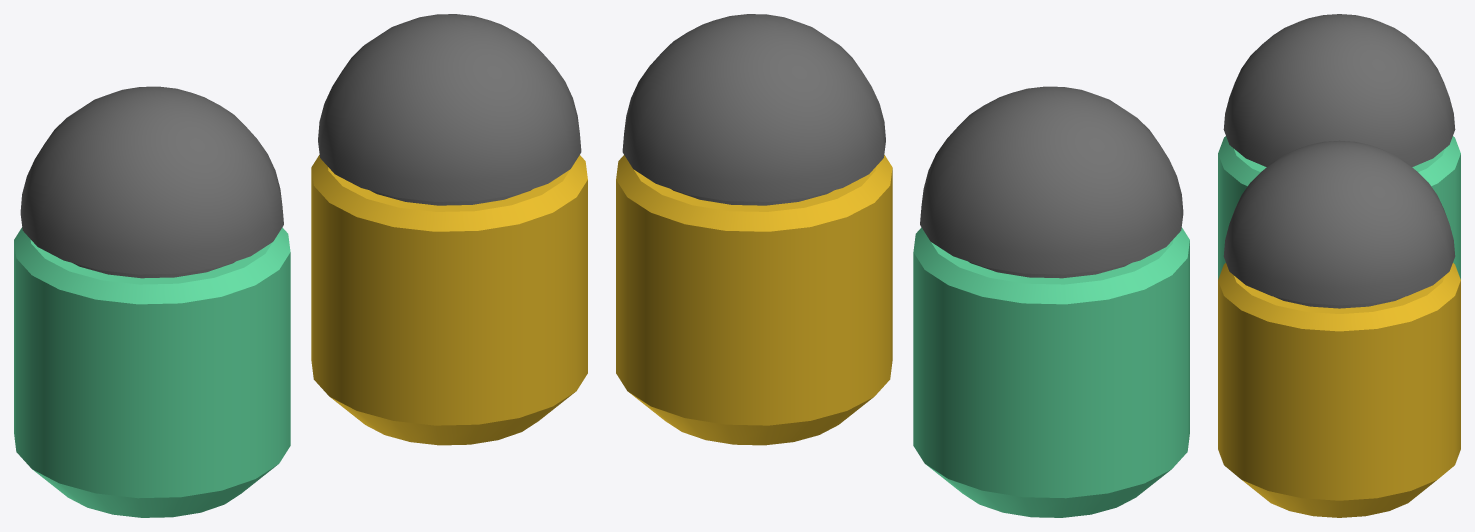
Rendered from salt_pepper_model.fbx.
The picture shows the model from 3 angles, left to right: view 1: azimuth 30°, elevation 25°; view 2: azimuth 150°, elevation 25°; view 3: azimuth 270°, elevation 25°; orthographic projection. The views are drawn at different scales.
Visible parts, largest first — view 1: salt_pepper_geo; view 2: salt_pepper_geo; view 3: salt_pepper_geo.
Boxes of the visible parts, box(x1,y1,x2,y2) form: salt_pepper_geo: box(14, 14, 587, 517); salt_pepper_geo: box(616, 14, 1189, 517); salt_pepper_geo: box(1218, 14, 1460, 517).
Bounding box in the file's own units: 0.7291 × 0.4898 × 0.3262.
